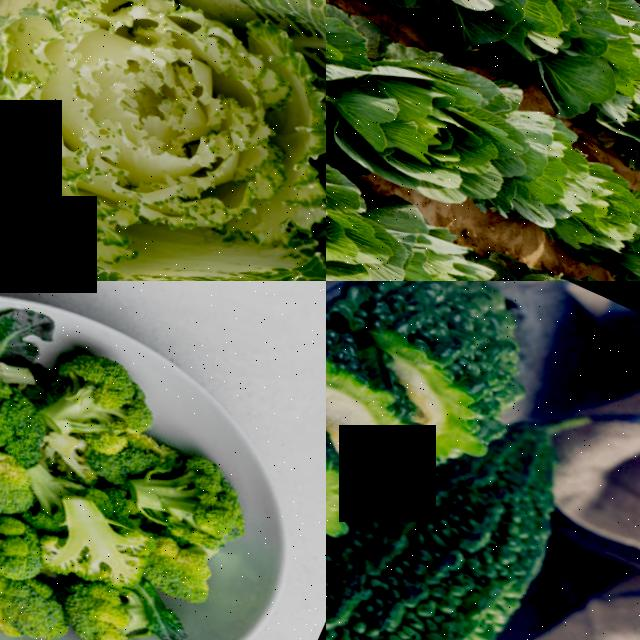bitter gourd: (326, 413, 555, 640), (328, 281, 574, 423), (326, 317, 447, 472)
broccoli: (47, 337, 167, 455), (139, 452, 267, 556), (44, 491, 148, 582), (59, 574, 165, 640), (0, 425, 42, 536), (0, 561, 59, 640)
cabbage: (0, 0, 326, 281), (326, 24, 522, 210), (469, 0, 640, 85), (493, 117, 613, 234), (607, 50, 640, 172)
